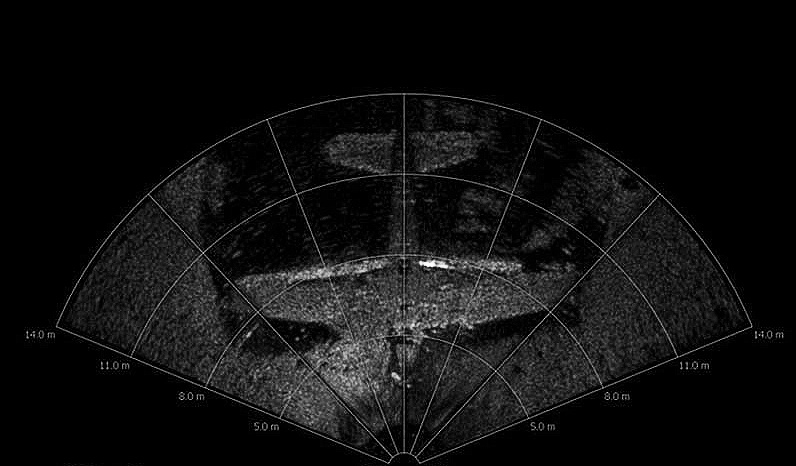plane: (235, 132, 578, 348)
